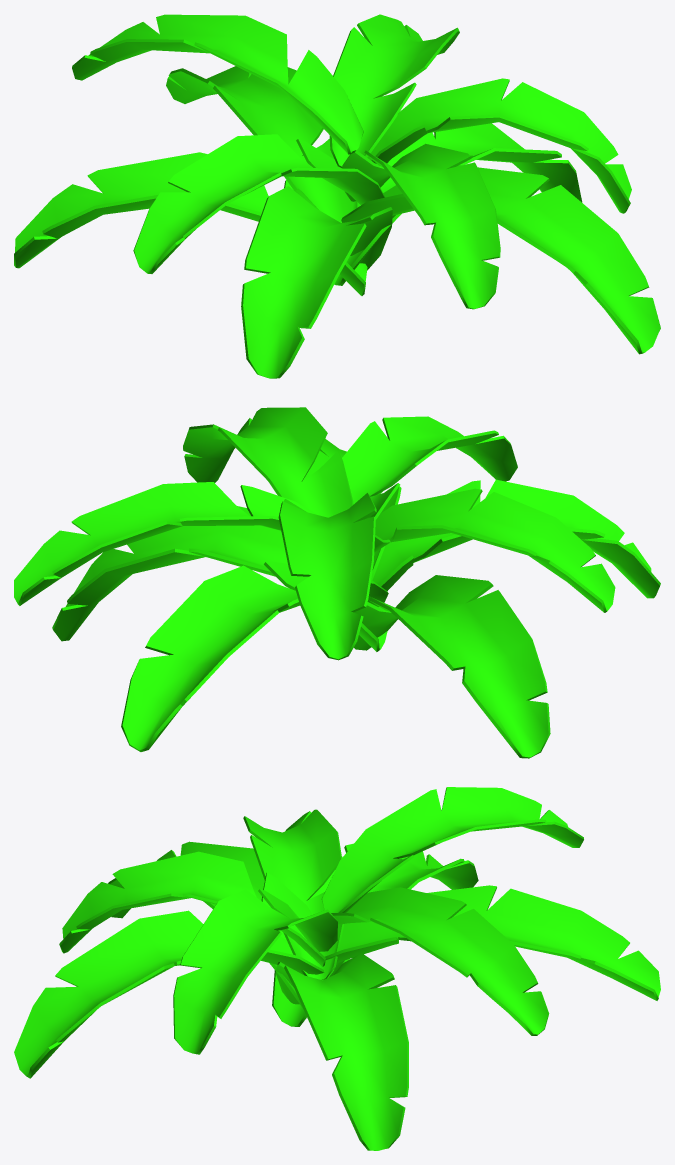
The model's file is plant_02.fbx.
3 views of the same model, one above another, from view 1: azimuth 30°, elevation 25°; view 2: azimuth 150°, elevation 25°; view 3: azimuth 270°, elevation 25° (orthographic). The views are drawn at different scales.
Parts seen in each view (by area): view 1: Plane007; view 2: Plane007; view 3: Plane007.
Part boxes in pixels (x1,y1,x2,y2): Plane007: (14,14,660,378); Plane007: (14,407,660,758); Plane007: (14,787,660,1150).
Size of the model in its own units: 152 by 64.68 by 178.
